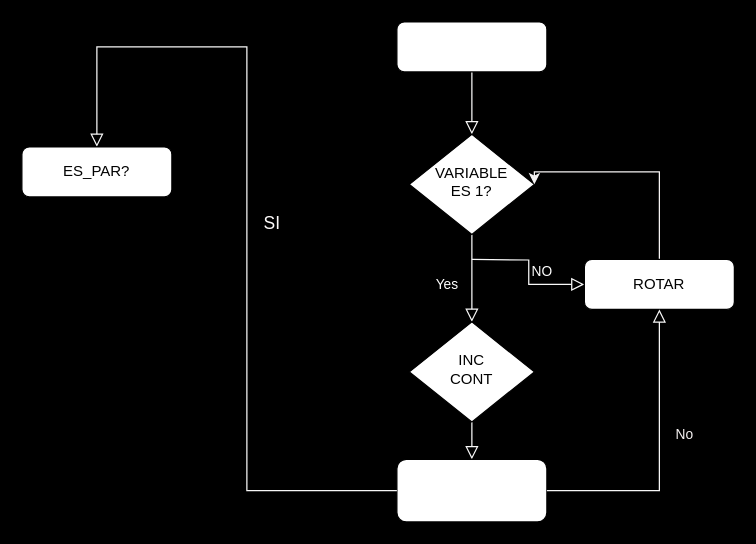
Some shapes in this 756 by 544 pixel diagram are drawn without their labels. The shapes that lost their labels are listed below. From the top down, each one's centre as x and y in pixels, then its label:
[471,46]: INICIO
[471,490]: DECREMENTO CANT ES 0?
